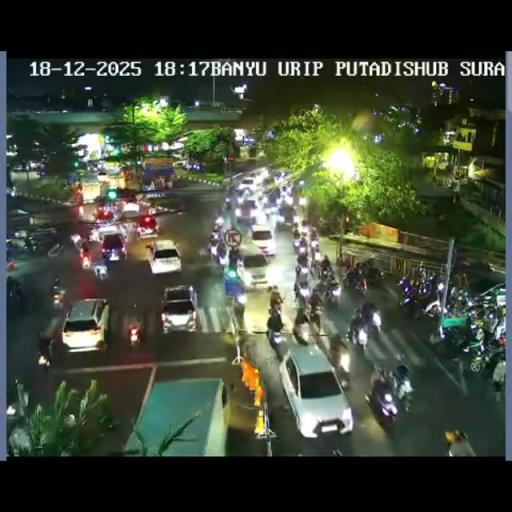Car: (210, 169, 295, 295), (122, 378, 228, 456), (278, 342, 352, 434), (60, 297, 110, 351), (160, 283, 199, 333), (146, 238, 180, 274), (240, 252, 271, 287), (143, 196, 185, 218), (100, 232, 127, 262), (250, 226, 276, 256), (136, 214, 159, 238), (236, 198, 256, 225), (263, 196, 280, 217), (121, 199, 140, 217), (281, 206, 295, 228), (96, 204, 114, 220), (240, 177, 255, 193), (96, 170, 110, 182), (172, 160, 188, 168)
Motorcycle: (297, 238, 389, 344), (458, 291, 504, 340), (364, 370, 398, 422), (466, 334, 504, 378), (430, 318, 468, 361), (222, 266, 246, 306), (398, 284, 424, 318), (348, 313, 371, 348), (267, 320, 285, 358), (394, 378, 414, 412), (344, 270, 368, 298), (6, 277, 25, 310), (420, 294, 443, 321), (445, 294, 469, 318), (322, 278, 340, 306), (294, 282, 310, 312), (37, 338, 53, 368), (293, 319, 310, 346), (308, 304, 323, 334), (364, 266, 385, 287), (232, 298, 246, 328), (426, 273, 442, 297), (52, 284, 66, 310), (295, 255, 310, 278), (410, 263, 425, 286), (214, 242, 228, 266), (93, 257, 108, 279), (310, 240, 324, 262), (198, 241, 212, 263), (319, 256, 333, 278), (451, 270, 468, 288), (318, 217, 335, 234), (294, 238, 308, 258), (269, 298, 283, 317), (94, 218, 113, 232), (305, 226, 318, 244), (88, 226, 101, 244), (70, 233, 83, 251), (24, 236, 36, 254), (292, 218, 302, 238), (228, 246, 238, 266), (6, 242, 16, 262), (81, 251, 91, 270), (210, 227, 220, 245), (118, 222, 128, 240), (113, 207, 123, 221), (298, 196, 306, 206), (225, 200, 231, 210)
